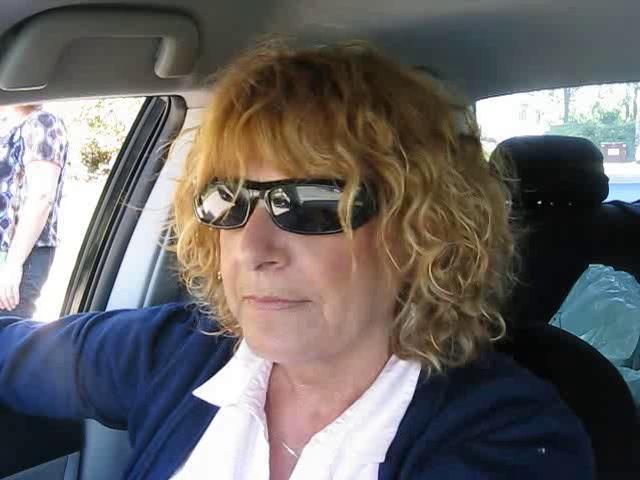no_yawn: (229, 276, 325, 328)
